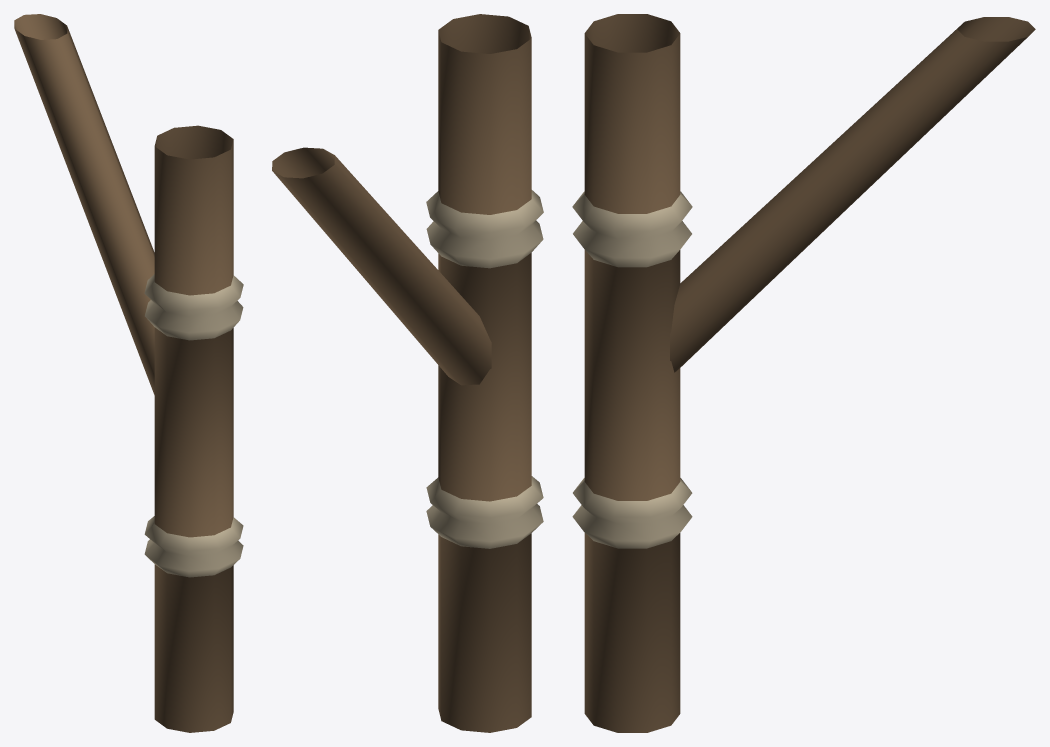
Rendered from rpgpp_ag_support_beam_int_01b_3m.fbx.
The picture shows the model from 3 angles, left to right: view 1: azimuth 30°, elevation 25°; view 2: azimuth 150°, elevation 25°; view 3: azimuth 270°, elevation 25°; orthographic projection. The views are drawn at different scales.
Visible parts, largest first — view 1: rpgpp_ag_support_beam_int_01b_3m; view 2: rpgpp_ag_support_beam_int_01b_3m; view 3: rpgpp_ag_support_beam_int_01b_3m.
Boxes of the visible parts, left/top/right/bottom form: rpgpp_ag_support_beam_int_01b_3m: left=14, top=14, right=243, bottom=732; rpgpp_ag_support_beam_int_01b_3m: left=272, top=14, right=543, bottom=732; rpgpp_ag_support_beam_int_01b_3m: left=572, top=14, right=1035, bottom=732.
Bounding box in the file's own units: 0.4431 × 2.92 × 1.79.
